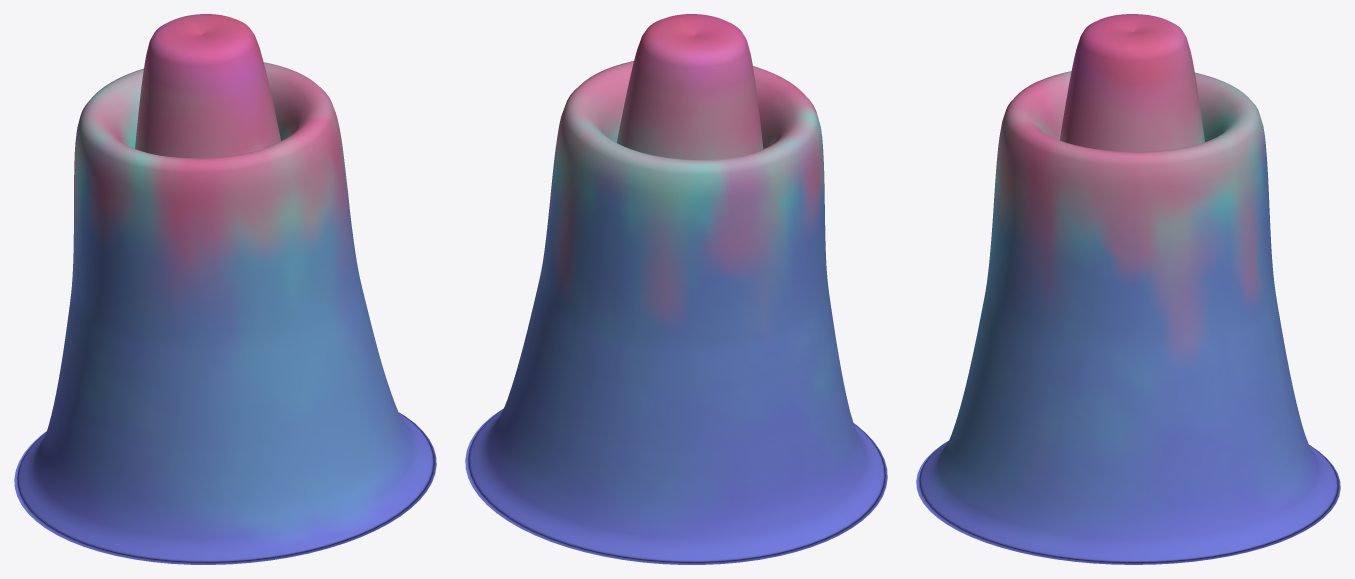
3 renders of one model, left to right at view 1: azimuth 30°, elevation 25°; view 2: azimuth 150°, elevation 25°; view 3: azimuth 270°, elevation 25°, orthographic.
Parts seen in each view (by area): view 1: LOD 0_9fa1a421-f8e0-511a-904e-ad4428e58ba6; view 2: LOD 0_9fa1a421-f8e0-511a-904e-ad4428e58ba6; view 3: LOD 0_9fa1a421-f8e0-511a-904e-ad4428e58ba6.
Boxes of the visible parts, x1,y1,x2,y2 form: LOD 0_9fa1a421-f8e0-511a-904e-ad4428e58ba6: [14, 14, 436, 564]; LOD 0_9fa1a421-f8e0-511a-904e-ad4428e58ba6: [465, 14, 887, 564]; LOD 0_9fa1a421-f8e0-511a-904e-ad4428e58ba6: [916, 14, 1340, 564].
Size of the model in its own units: 1.26 by 1.5 by 1.26.
